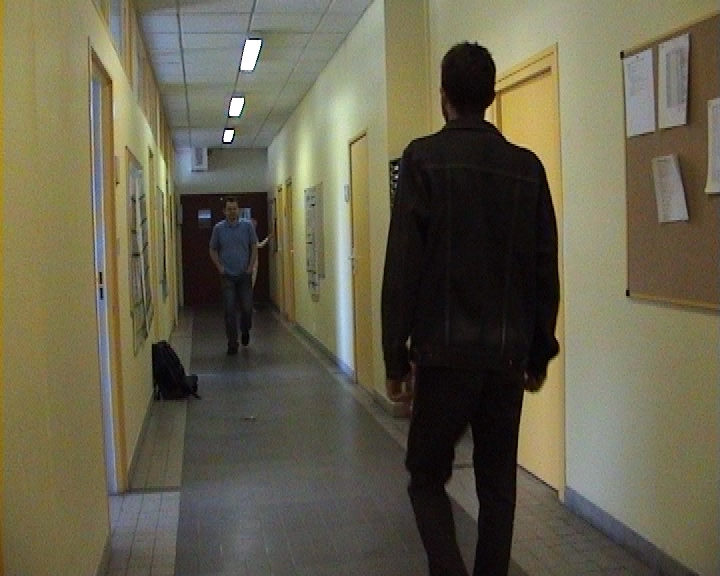leave bag unattended: (129, 320, 221, 422)
